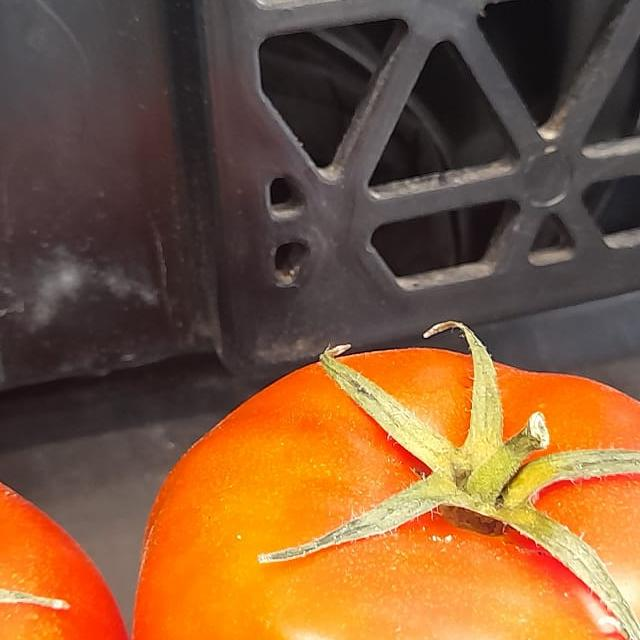tomato: (120, 282, 640, 640)
